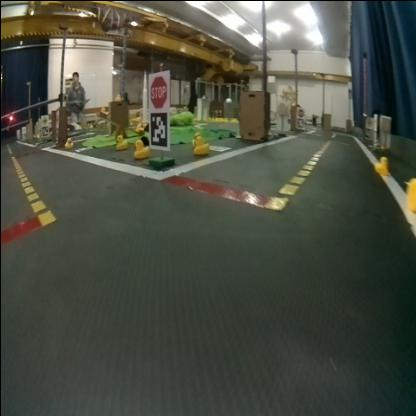Duckie: (192, 135, 206, 153), (406, 178, 414, 209), (374, 156, 388, 172), (133, 138, 145, 156), (114, 134, 122, 146), (64, 138, 69, 143), (115, 94, 118, 100)
QR code: (149, 111, 165, 145)
Stop sign: (148, 73, 166, 107)
Traffic light: (8, 112, 13, 119)
